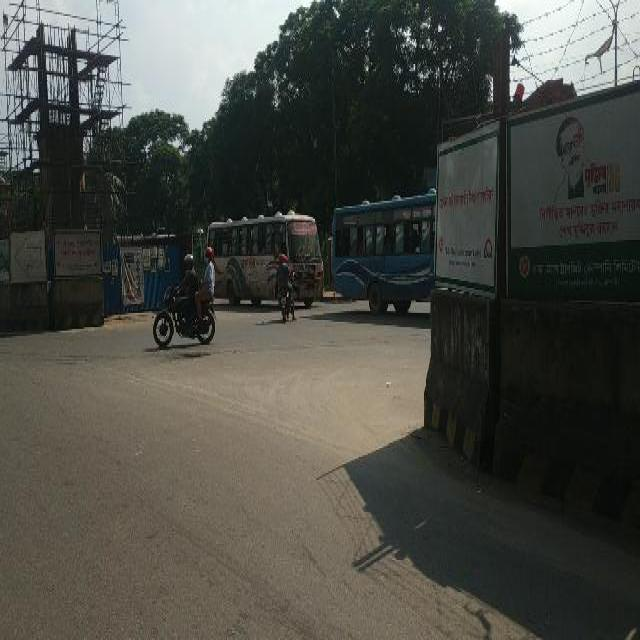bus: (329, 190, 433, 313), (204, 212, 323, 298)
motorcycle: (152, 283, 215, 345), (277, 281, 290, 318)
